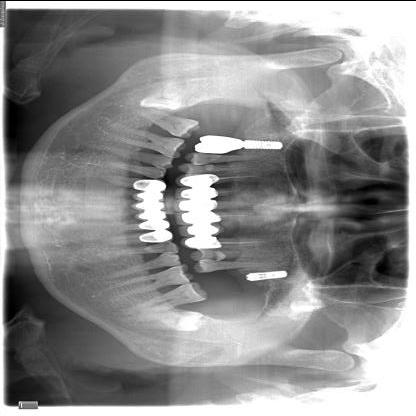ITI: (242, 265, 294, 285), (250, 135, 284, 152)
